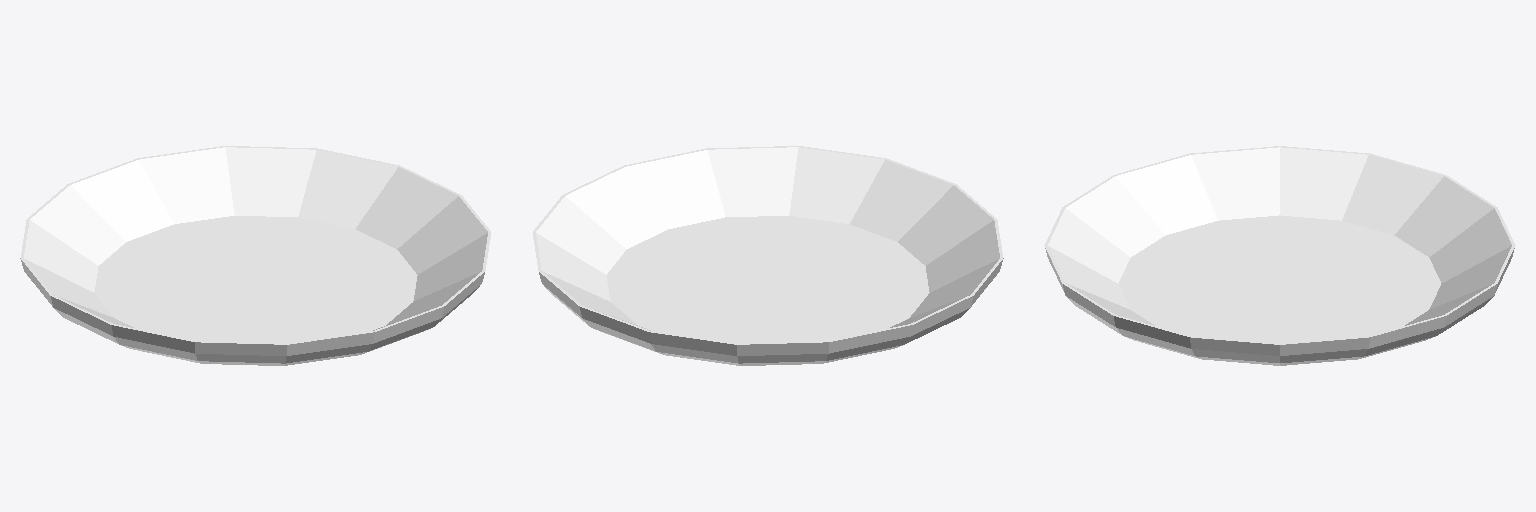
The robot description file, URDF, robot "flower-tea-cup-dish":
<?xml version="1.0"?>
<robot name="flower-tea-cup-dish"
       xmlns:xi="http://www.w3.org/2001/XInclude"
       xmlns:gazebo="http://playerstage.sourceforge.net/gazebo/xmlschema/#gz"
       xmlns:model="http://playerstage.sourceforge.net/gazebo/xmlschema/#model"
       xmlns:sensor="http://playerstage.sourceforge.net/gazebo/xmlschema/#sensor"
       xmlns:body="http://playerstage.sourceforge.net/gazebo/xmlschema/#body"
       xmlns:geom="http://playerstage.sourceforge.net/gazebo/xmlschema/#geom"
       xmlns:joint="http://playerstage.sourceforge.net/gazebo/xmlschema/#joint"
       xmlns:interface="http://playerstage.sourceforge.net/gazebo/xmlschema/#interface"
       xmlns:rendering="http://playerstage.sourceforge.net/gazebo/xmlschema/#rendering"
       xmlns:renderable="http://playerstage.sourceforge.net/gazebo/xmlschema/#renderable"
       xmlns:controller="http://playerstage.sourceforge.net/gazebo/xmlschema/#controller"
       xmlns:physics="http://playerstage.sourceforge.net/gazebo/xmlschema/#physics">
  <gazebo>
    <static>false</static>
  </gazebo>
  <link name="nil_link">
    <visual>
      <origin xyz="0 0 0" rpy="0 -0 0"/>
      <geometry>
        <mesh filename="model://flower-tea-cup-dish/meshes/nil_link_mesh.dae" scale="1 1 1" />
      </geometry>
    </visual>
    <collision>
      <origin xyz="0 0 0" rpy="0 -0 0"/>
      <geometry>
        <mesh filename="model://flower-tea-cup-dish/meshes/nil_link_mesh.dae" scale="1 1 1" />
      </geometry>
    </collision>
    <inertial>
      <mass value="0.001" />
      <origin xyz="0 0 0" rpy="0 -0 0"/>
      <inertia ixx="1e-09" ixy="0" ixz="0" iyy="1e-09" iyz="0" izz="1e-09"/>
    </inertial>
  </link>
  <gazebo reference="nil_link">
    <mu1>0.9</mu1>
    <mu2>0.9</mu2>
  </gazebo>
</robot>

--- What the picture shows (computed from the rendered views, not written in the file) ---
Views: 3 orthographic renders of the robot side by side, from view 1: azimuth 30°, elevation 25°; view 2: azimuth 150°, elevation 25°; view 3: azimuth 270°, elevation 25°.
Robot: flower-tea-cup-dish — 1 links, 0 joints (none); root link nil_link; default pose: all joints at 0.
Visible links, largest first — view 1: nil_link; view 2: nil_link; view 3: nil_link.
Link boxes in pixels (x1=…): nil_link: x1=20, y1=146, x2=490, y2=365; nil_link: x1=533, y1=146, x2=1003, y2=365; nil_link: x1=1044, y1=146, x2=1515, y2=365.
Size in the robot's own frame: 0.29 by 0.29 by 0.028 metres.
1 mesh visuals loaded from 1 distinct referenced files (1 Collada DAE).
